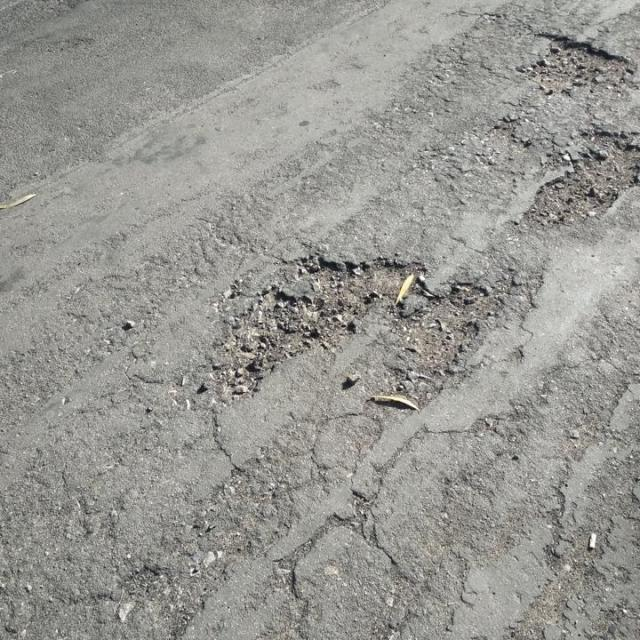pothole: (188, 244, 531, 424), (499, 119, 640, 235), (497, 17, 640, 105)
